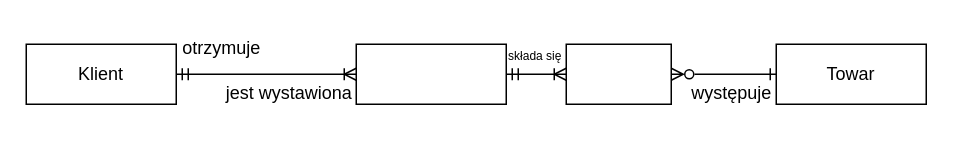
This 953x141 diagram has some shape labels left out. The shapes that lost their labels are listed below. From the top down, each one's box as (x1, y1, x2, y2) in pixels, then its label:
(355, 43, 506, 104): Faktura
(565, 43, 671, 104): Towar na fakturze
